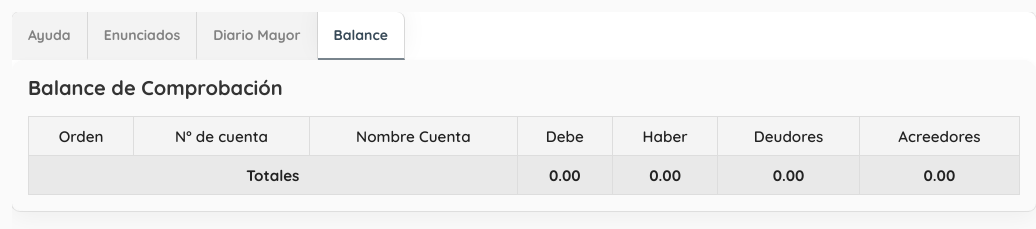
Test: auxSection Component for Practice › In practice, click the Ayuda bottom and change the component
This screenshot has width=1036, height=229.
Click the button "Ayuda".
click(50, 36)  # box x1=12 y1=12 x2=88 y2=60
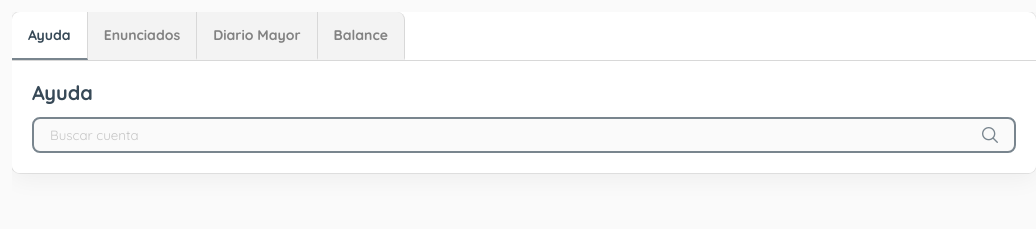
Now the search field with placeholder "Buscar cuenta" is shown, box x1=50 y1=117 x2=982 y2=153
